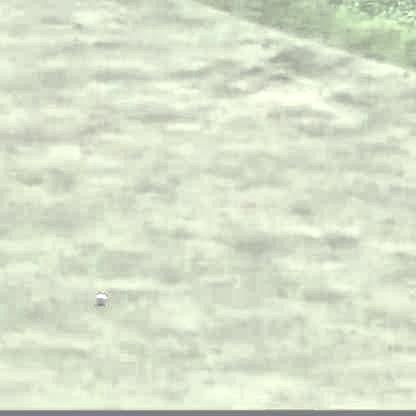golfball: (92, 289, 105, 302)
